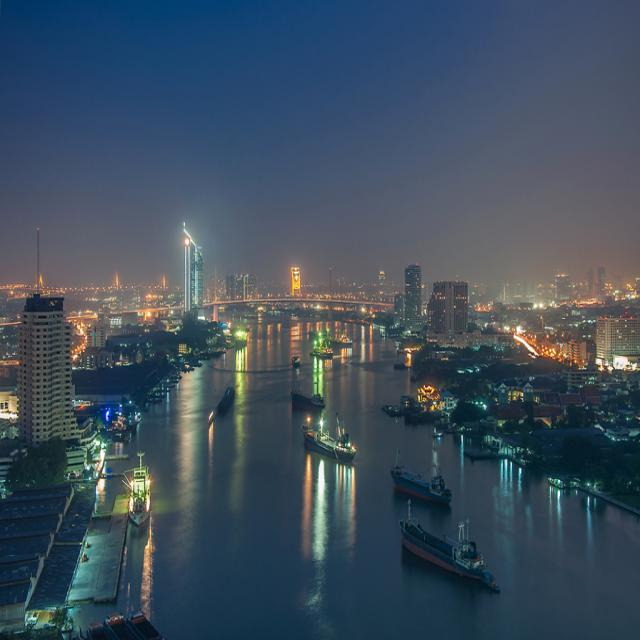Boat: (400, 500, 500, 593), (390, 443, 450, 505), (304, 416, 363, 474), (288, 382, 324, 411), (219, 384, 232, 408), (292, 352, 301, 364)
